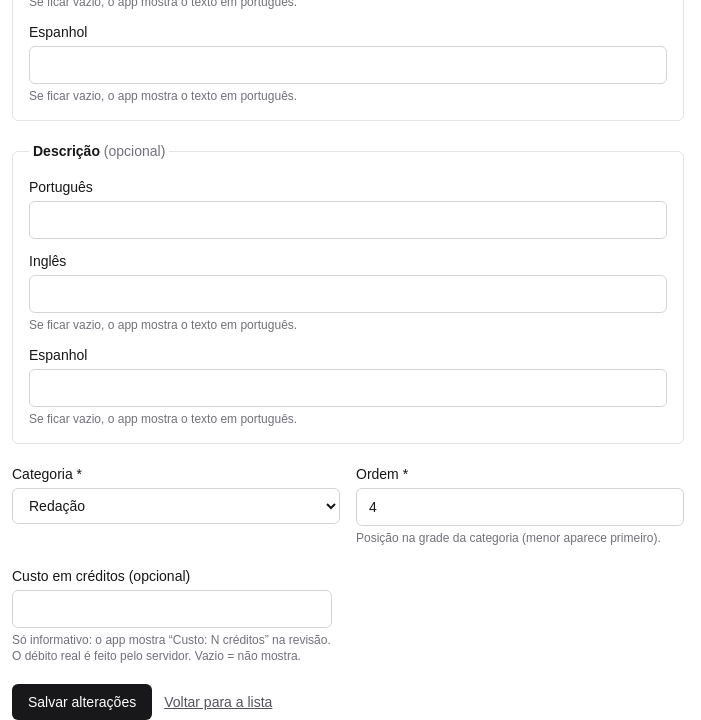
Test: QuestionnaireForm › submits the fields to the action
(page scrolled)
Click the button "Salvar alterações" at point(82, 702), box [12,684,152,719]
(page scrolled)
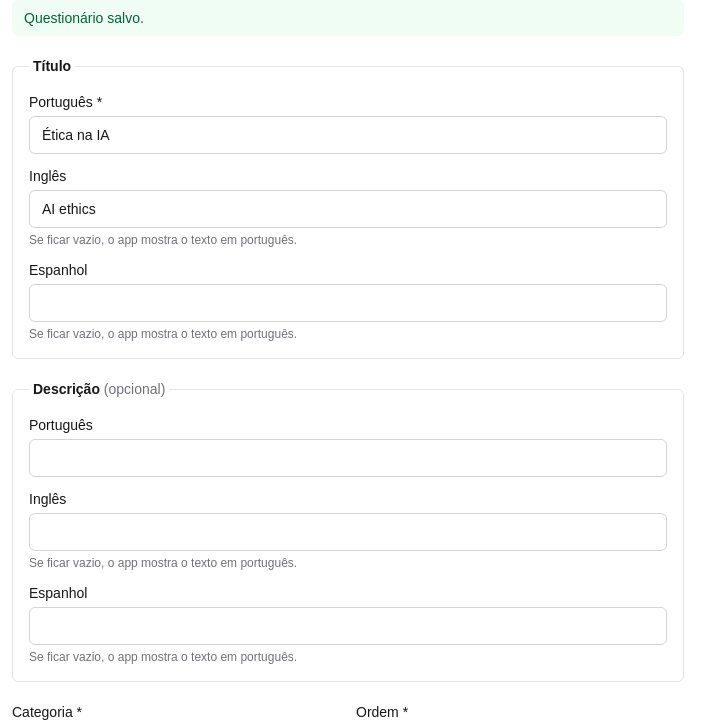
Now the message reads "Questionário salvo.", box [24,10,144,26]
